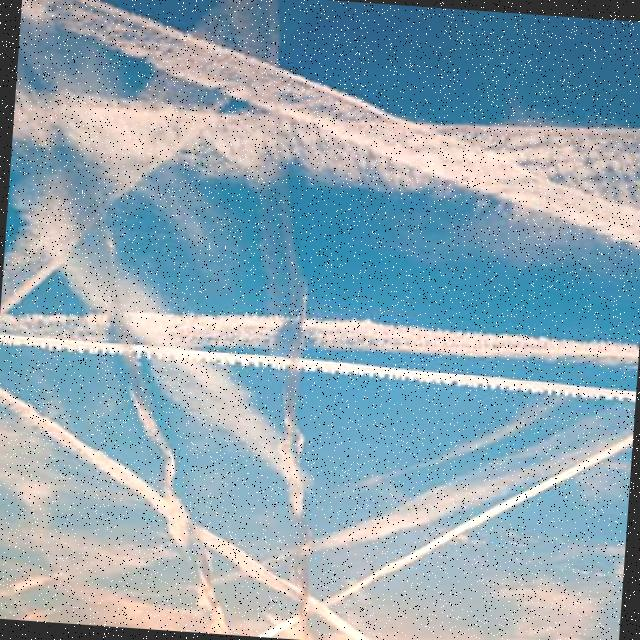Ct: (1, 1, 640, 516)
